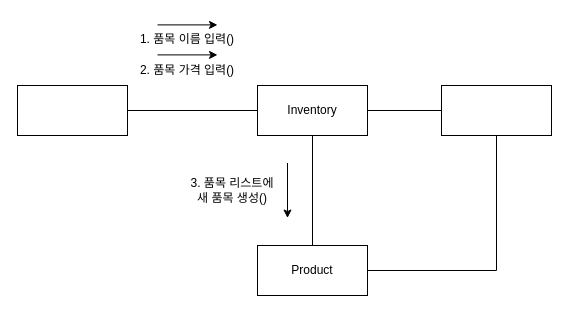
This 569x313 diagram has some shape labels left out. Each missing label, with the centre of its shape:
"Shop" belongs at (72,110).
"Stock" belongs at (496,110).
